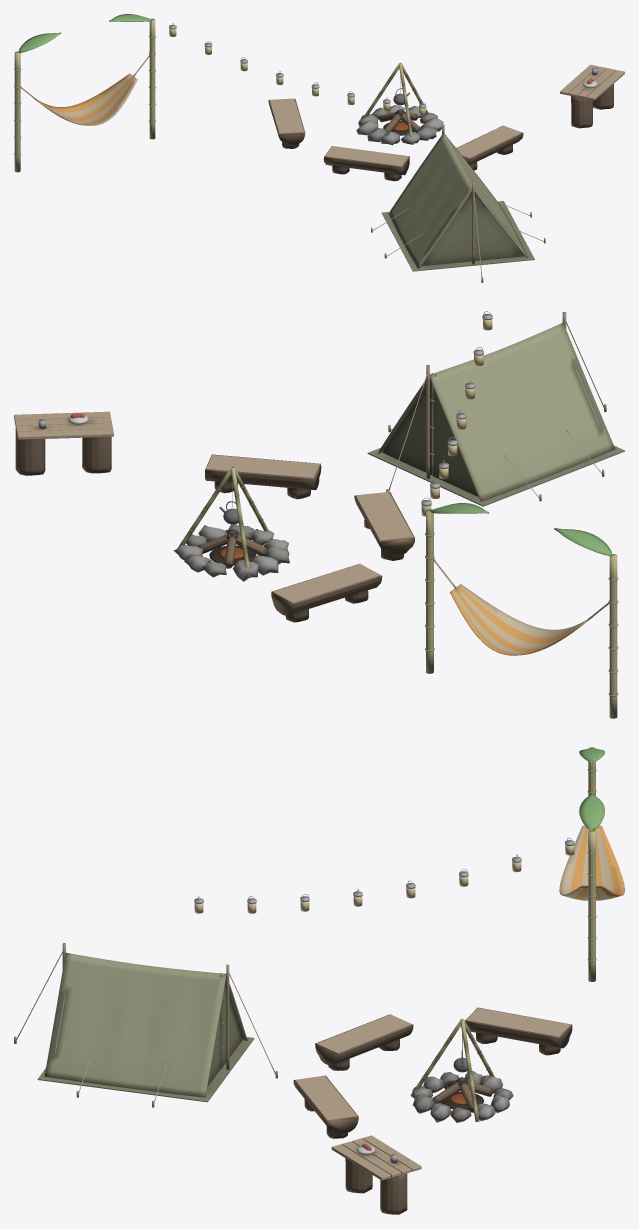
Rendered from camp_picked.glb.
3 renders of one model, top to bottom at view 1: azimuth 30°, elevation 25°; view 2: azimuth 150°, elevation 25°; view 3: azimuth 270°, elevation 25°, orthographic. The views are drawn at different scales.
Visible parts, largest first — view 1: Tent, Hammock, Fire, Table, Seat_1, Seat_0, Seat_2; view 2: Tent, Hammock, Fire, Table, Seat_2, Seat_0, Seat_1; view 3: Tent, Hammock, Fire, Table, Seat_2, Seat_1, Seat_0.
Part boxes in pixels (x1=…): Tent: x1=371, y1=124, x2=545, y2=282; Hammock: x1=14, y1=14, x2=155, y2=172; Fire: x1=356, y1=62, x2=443, y2=145; Table: x1=560, y1=64, x2=624, y2=128; Seat_1: x1=323, y1=146, x2=409, y2=181; Seat_0: x1=456, y1=125, x2=523, y2=170; Seat_2: x1=268, y1=98, x2=305, y2=148; Tent: x1=367, y1=312, x2=624, y2=506; Hammock: x1=425, y1=503, x2=618, y2=718; Fire: x1=173, y1=466, x2=289, y2=581; Table: x1=14, y1=411, x2=113, y2=475; Seat_2: x1=271, y1=563, x2=382, y2=622; Seat_0: x1=205, y1=454, x2=321, y2=499; Seat_1: x1=354, y1=492, x2=414, y2=560; Tent: x1=14, y1=943, x2=277, y2=1107; Hammock: x1=559, y1=747, x2=624, y2=981; Fire: x1=410, y1=1019, x2=513, y2=1122; Table: x1=331, y1=1135, x2=421, y2=1214; Seat_2: x1=465, y1=1007, x2=572, y2=1055; Seat_1: x1=315, y1=1014, x2=413, y2=1070; Seat_0: x1=293, y1=1075, x2=358, y2=1138.
Size of the model in its own units: 11.18 by 2.68 by 8.92.
